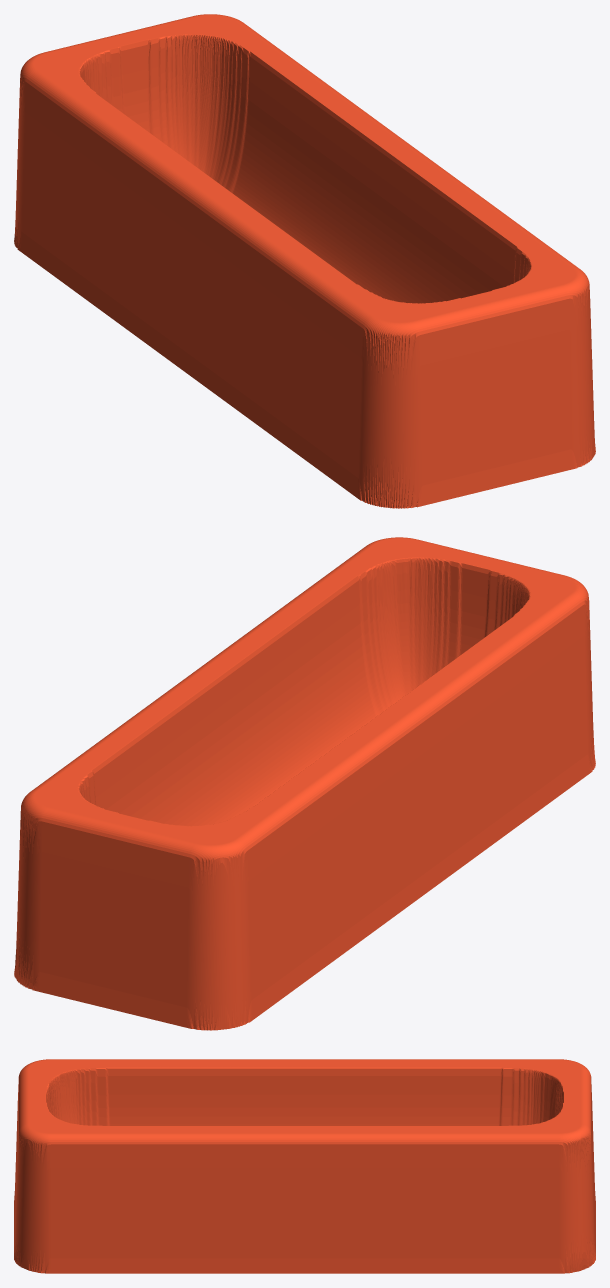
File: mold.glb
3 renders of one model, top to bottom at view 1: azimuth 30°, elevation 25°; view 2: azimuth 150°, elevation 25°; view 3: azimuth 270°, elevation 25°, orthographic. The views are drawn at different scales.
Parts seen in each view (by area): view 1: geometry_0; view 2: geometry_0; view 3: geometry_0.
Part boxes in pixels (left/top/right/bottom): geometry_0: left=14, top=14, right=595, bottom=508; geometry_0: left=14, top=537, right=595, bottom=1030; geometry_0: left=14, top=1059, right=595, bottom=1273.
Size of the model in its own units: 0.0499 by 0.0365 by 0.1435.
